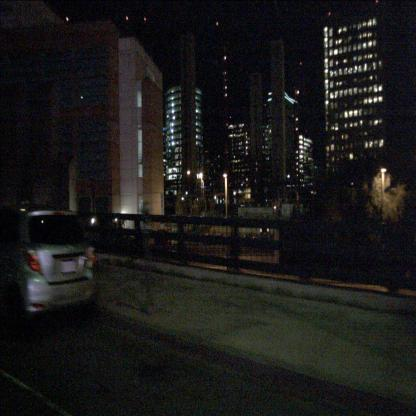vehicle-car: (0, 210, 95, 339)
